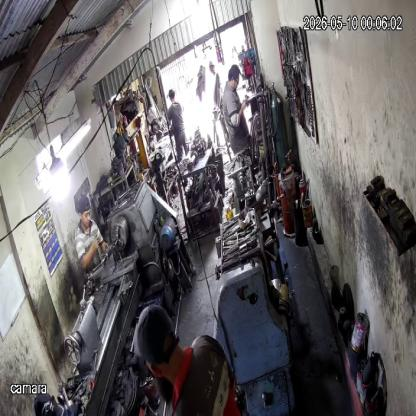sin_lentes: (80, 210, 93, 218)
